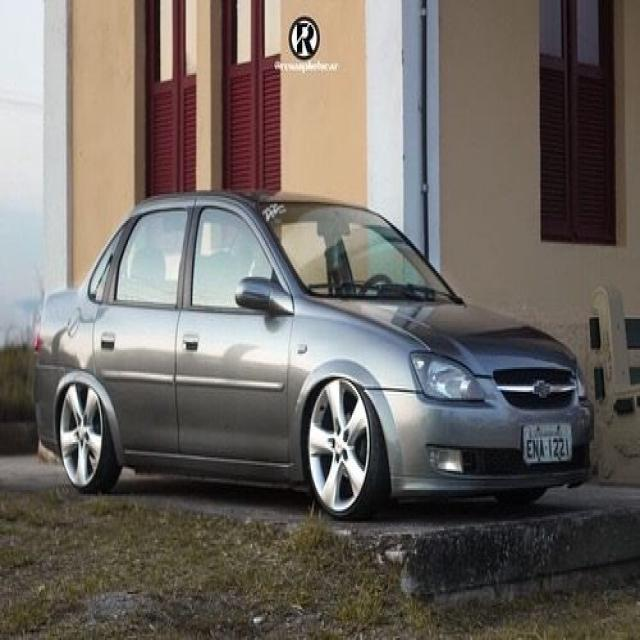Placas: (518, 420, 574, 466)
